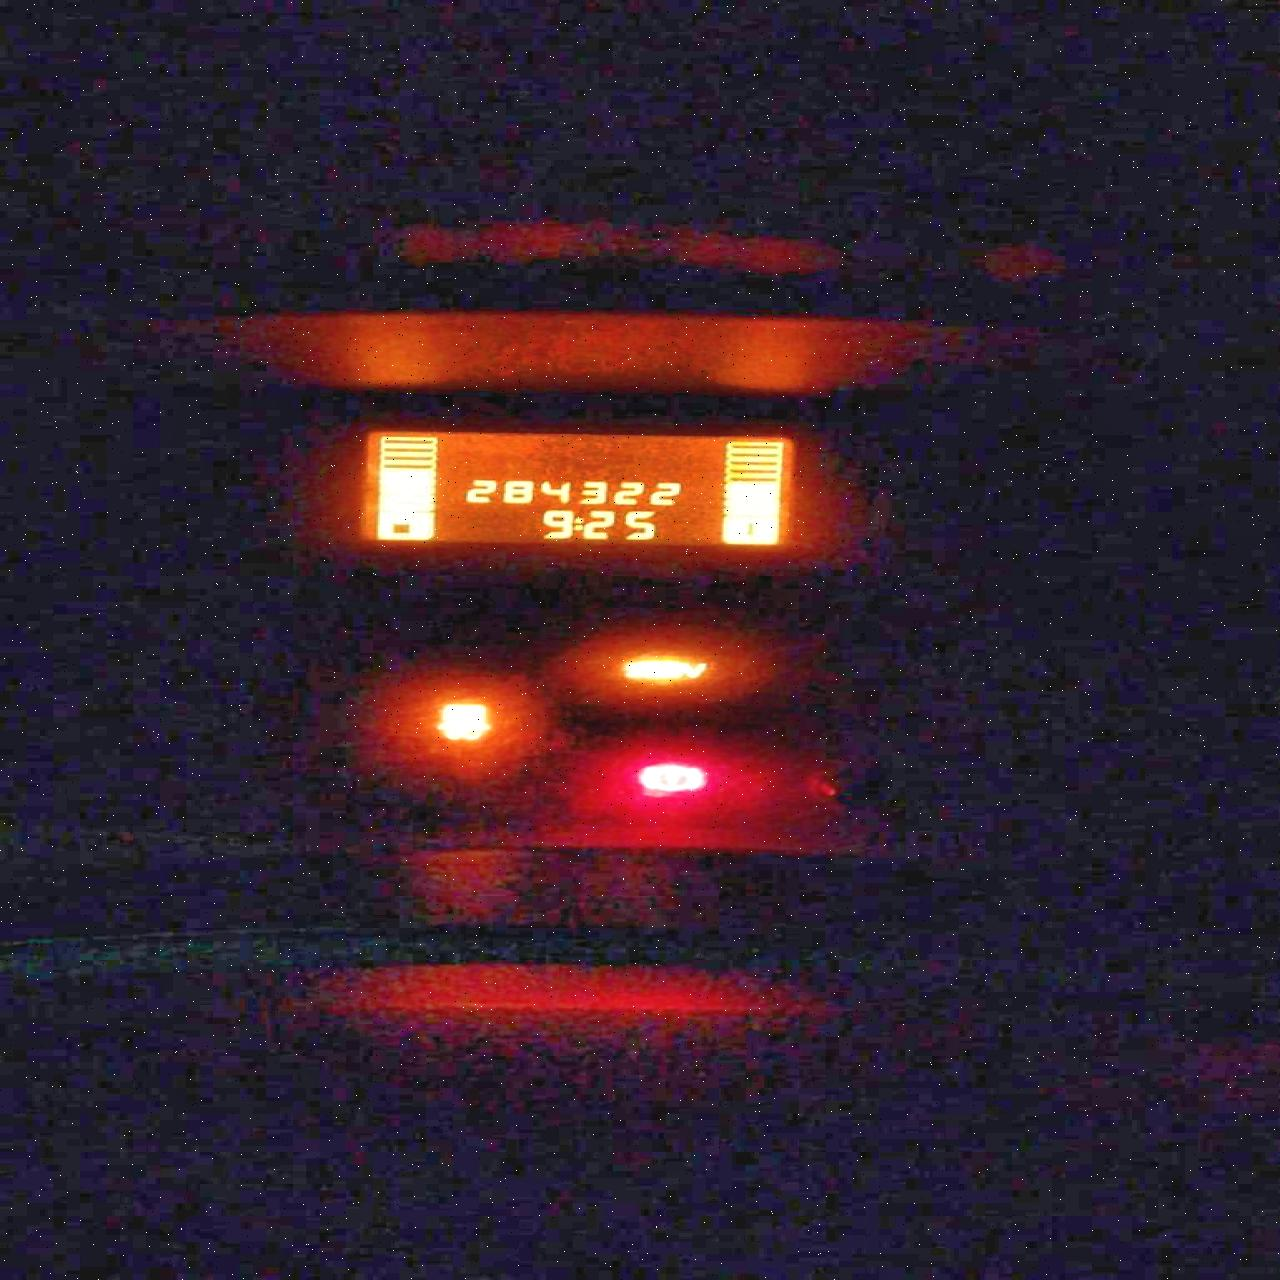2: (580, 510, 614, 539), (611, 481, 645, 505), (647, 482, 681, 505), (463, 479, 496, 503)
3: (576, 481, 607, 504)
4: (539, 481, 570, 503)
5: (622, 510, 654, 539)
8: (502, 481, 533, 503)
9: (539, 509, 573, 538)
X: (572, 517, 583, 530)
odometer: (353, 427, 797, 549)
